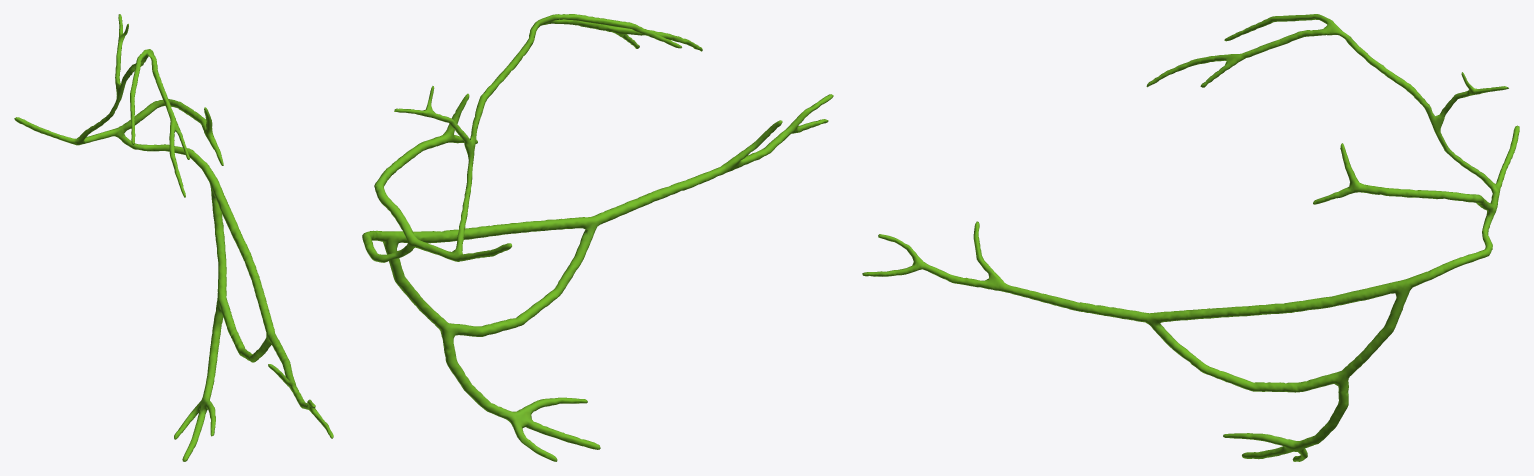
Rendered from Facial_nerve_L.glb.
3 views of the same model, side by side, from view 1: azimuth 30°, elevation 25°; view 2: azimuth 150°, elevation 25°; view 3: azimuth 270°, elevation 25° (orthographic). The views are drawn at different scales.
Visible parts, largest first — view 1: Facial_nerve_L.001; view 2: Facial_nerve_L.001; view 3: Facial_nerve_L.001.
Boxes of the visible parts, <box> form: Facial_nerve_L.001: <box>14,14,333,461</box>; Facial_nerve_L.001: <box>362,14,833,461</box>; Facial_nerve_L.001: <box>862,14,1519,461</box>.
Bounding box in the file's own units: 0.1331 × 0.2937 × 0.4006.
1 material, 1 textured.
